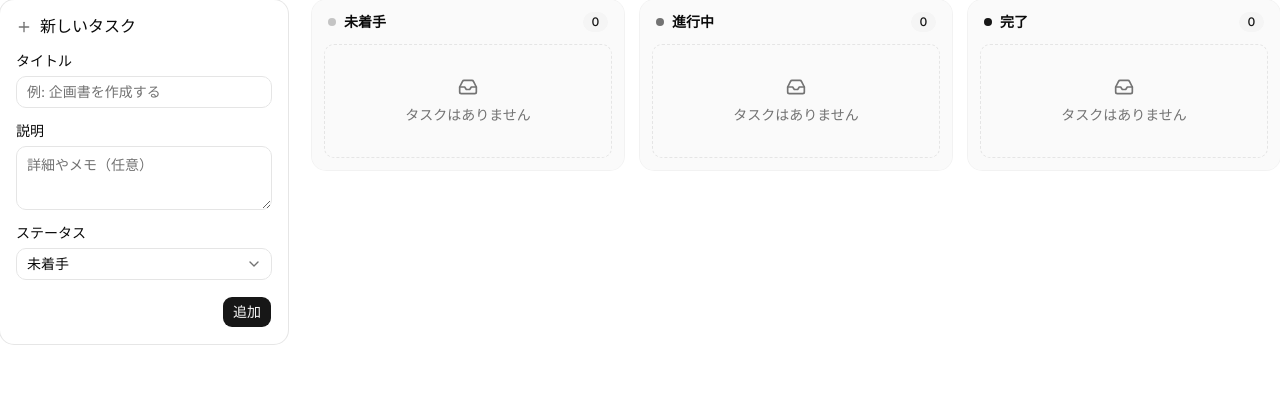
タスクの追加 › 追加に失敗するとエラーが表示され、一覧は変わらず入力内容も残る
Type "買い物" into the field labelled "タイトル" at (144, 92), box [16,76,272,108]
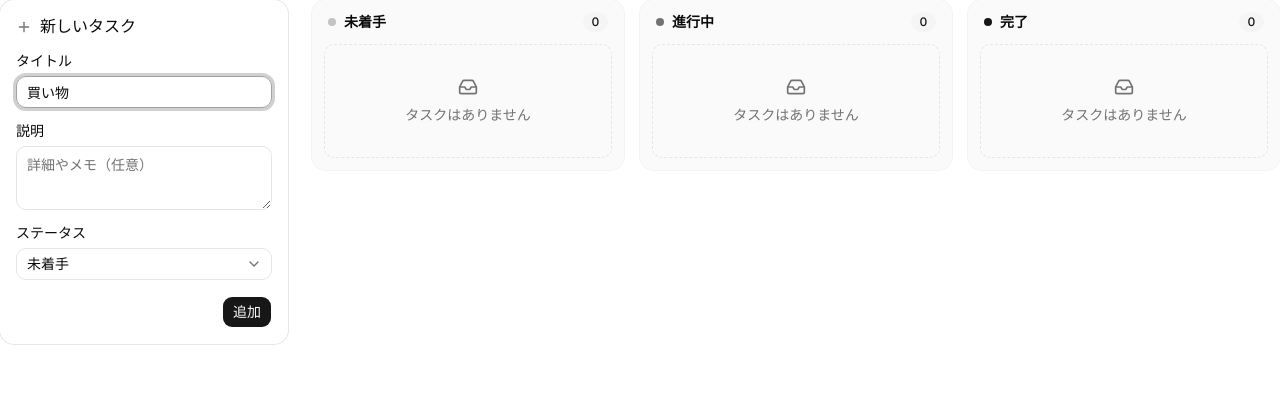
Click the button "追加" at (247, 312), box [222,296,272,328]
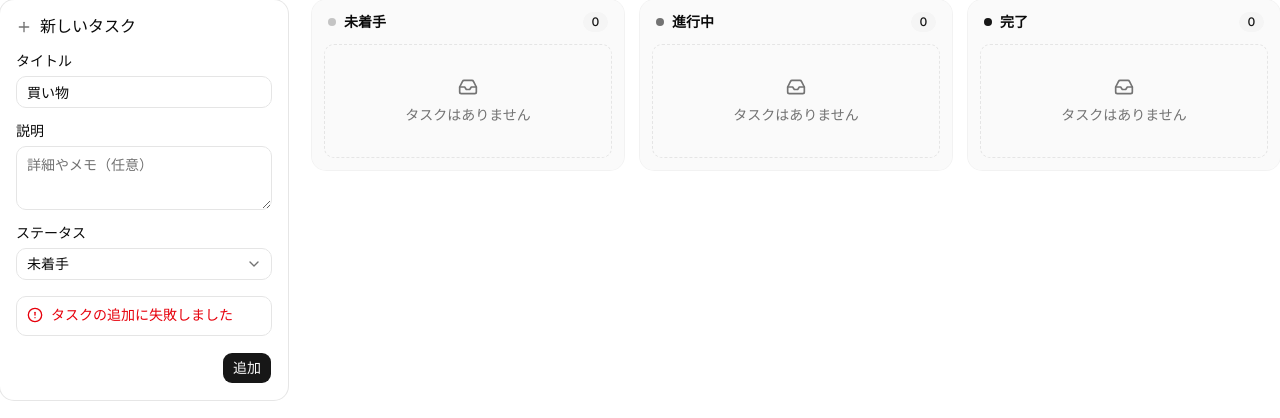
Now the message reads "タスクの追加に失敗しました", box [51,306,233,324]
